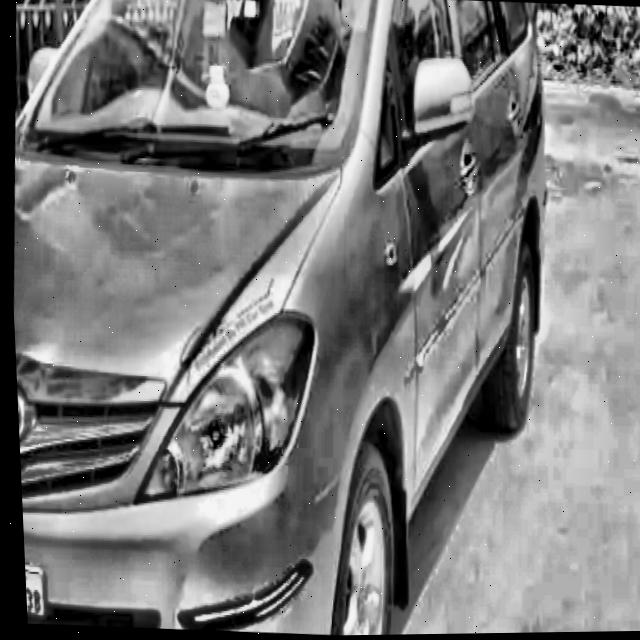light_vehicle: (0, 0, 572, 640)
